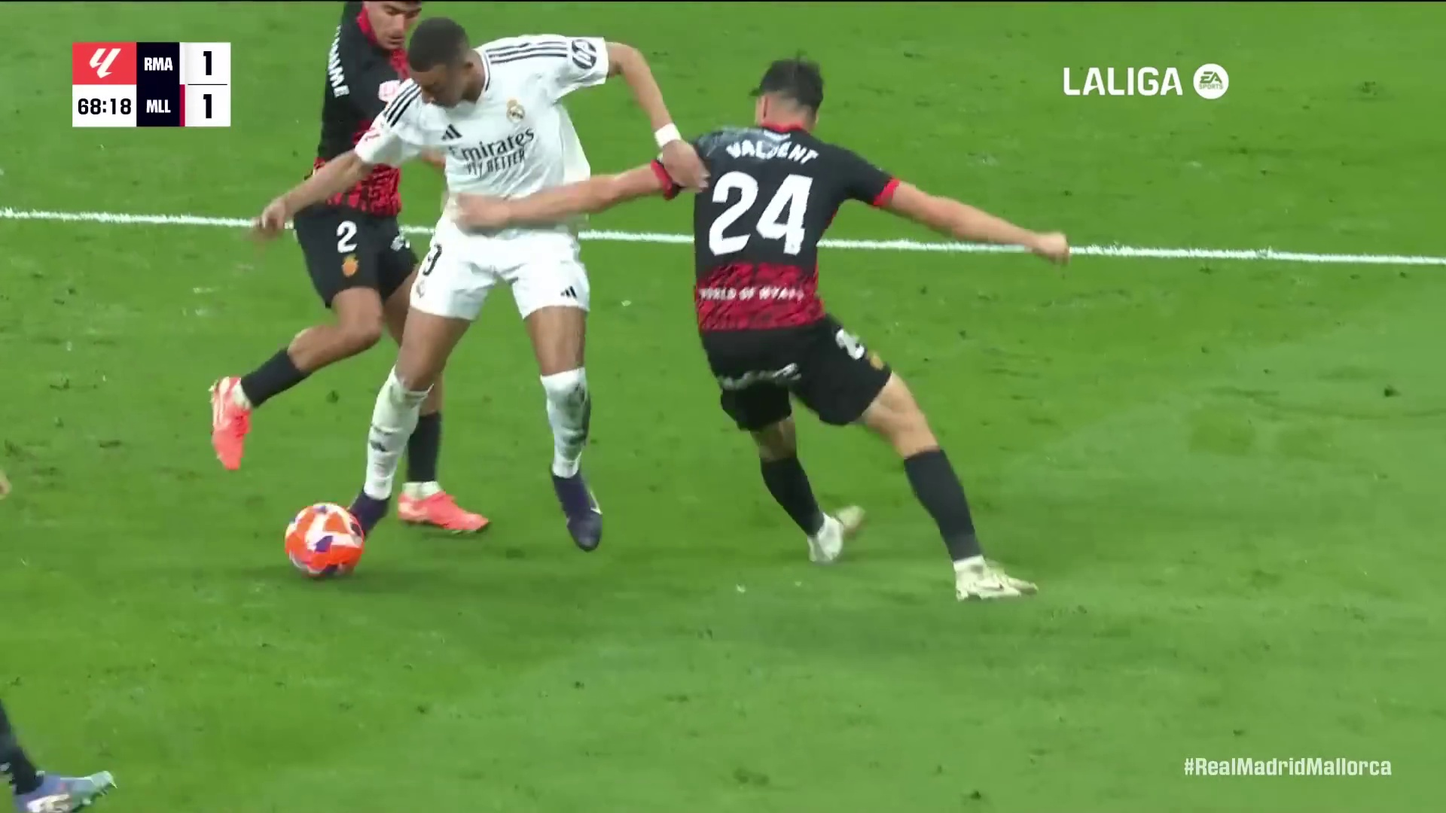ball: (283, 501, 366, 580)
player: (451, 50, 1071, 603), (249, 14, 711, 555), (209, 0, 491, 536)
